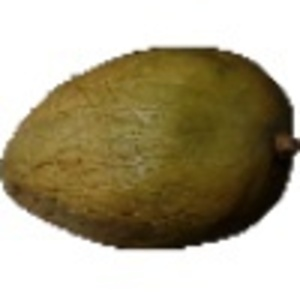mamão: (3, 41, 298, 254)
